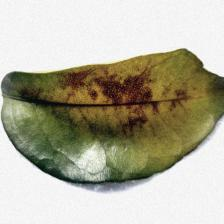black spot: (70, 69, 158, 142)
